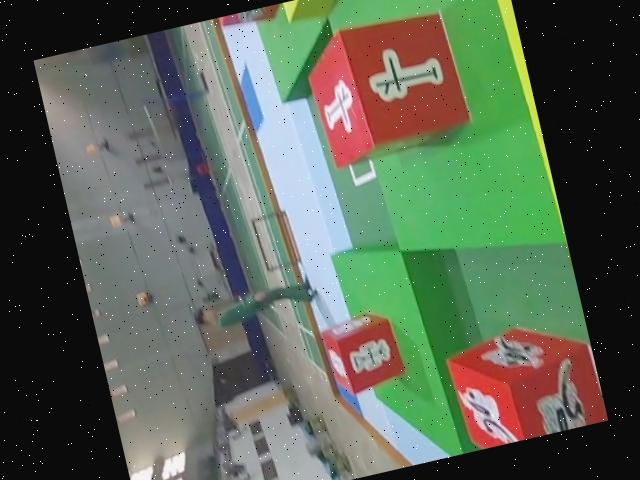R1: (435, 311, 608, 454)
R2 Real: (292, 4, 479, 173), (314, 306, 412, 401)
